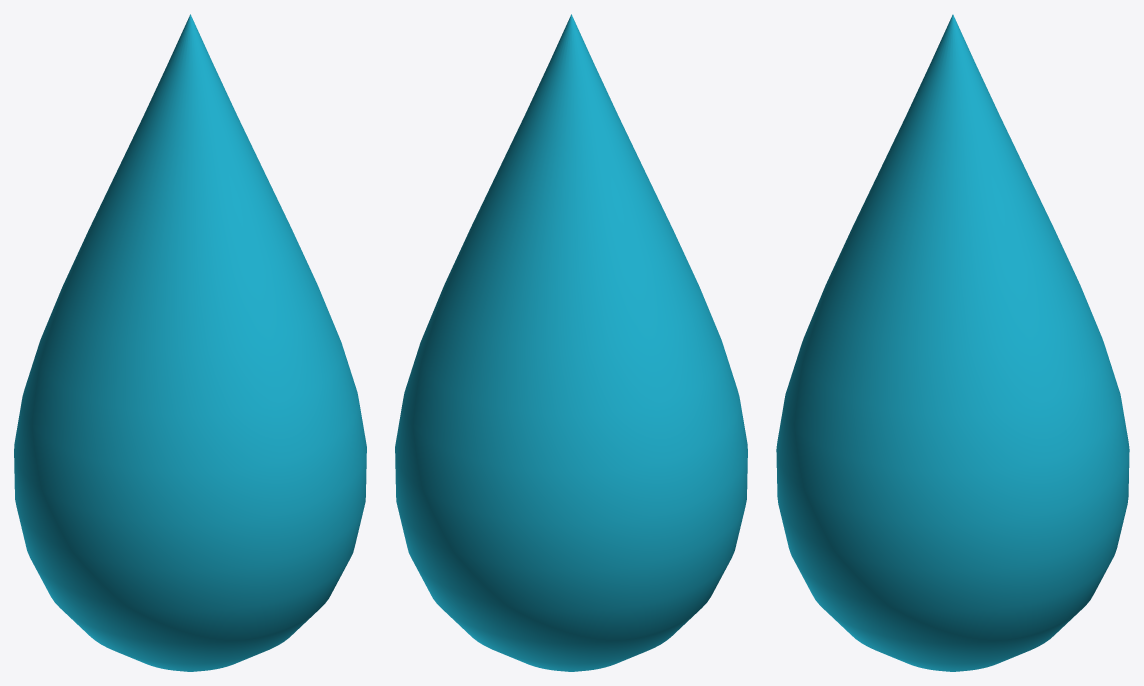
Rendered from water_drop.glb.
3 renders of one model, left to right at view 1: azimuth 30°, elevation 25°; view 2: azimuth 150°, elevation 25°; view 3: azimuth 270°, elevation 25°, orthographic.
Parts seen in each view (by area): view 1: water_drop; view 2: water_drop; view 3: water_drop.
Part boxes in pixels (left/top/right/bottom): water_drop: left=14, top=14, right=366, bottom=671; water_drop: left=395, top=14, right=747, bottom=671; water_drop: left=776, top=14, right=1129, bottom=671.
Size of the model in its own units: 0.4703 by 0.96 by 0.4703.
